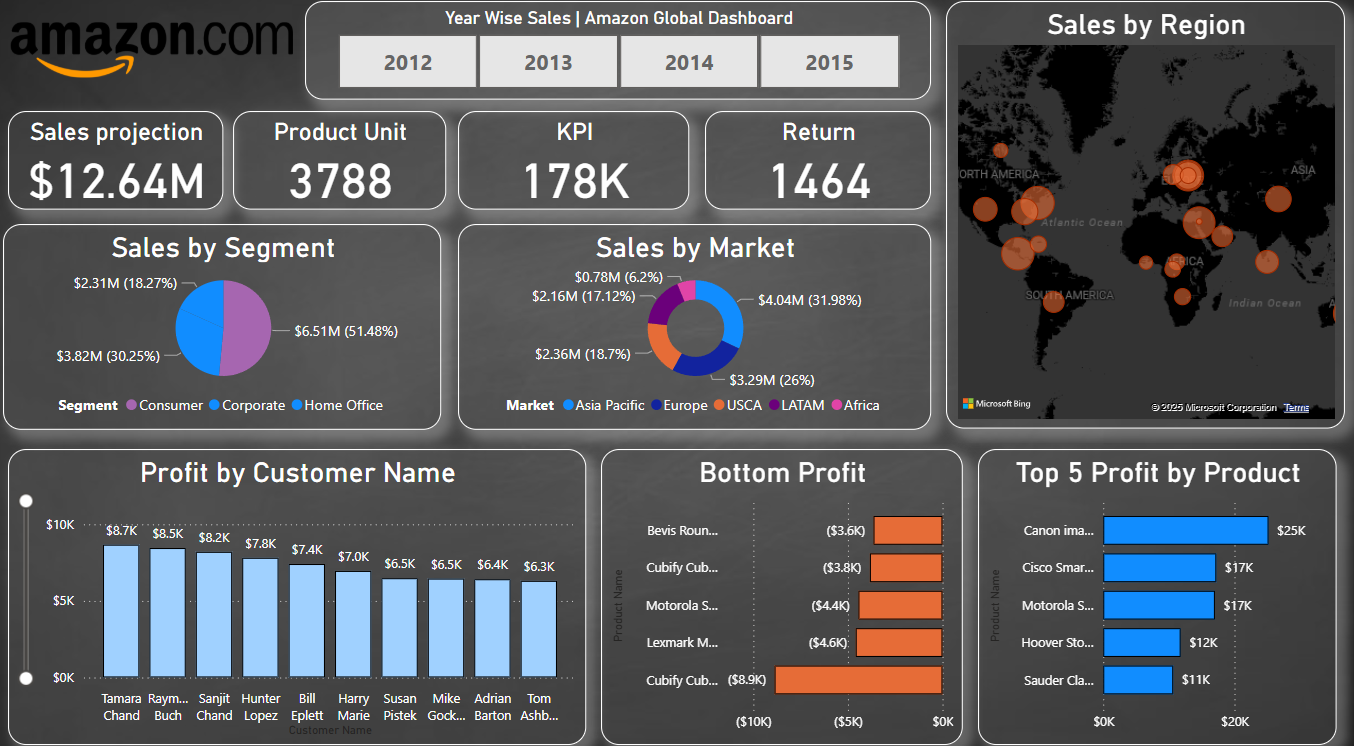

What the dashboard file says about the page in this screenshot:
{"tool":"powerbi","page":{"name":"Report 1","canvas":[1280,720],"ordinal":0},"visuals":[{"type":"card","title":"Product Unit","fields":{"Values":["Orders.Product Name"]},"box":[221.8,108.9,200.7,92.8],"z":1000},{"type":"slicer","title":"Year Wise Sales | Amazon Global Dashboard","fields":{"Values":["Orders.Year"]},"box":[289.4,6.1,589.9,92.8],"z":1500},{"type":"image","box":[0,21.2,289.4,61.5],"z":2000},{"type":"card","title":"Sales projection","fields":{"Values":["Orders.Sales"]},"box":[9.1,108.9,202.7,92.8],"z":3000},{"type":"card","title":"KPI","fields":{"Values":["Orders.Quantity"]},"box":[433.6,108.9,217.8,92.8],"z":4000},{"type":"card","title":"Return ","fields":{"Values":["Orders.Ship Date"]},"box":[666.6,108.9,212.8,92.8],"z":5000},{"type":"pieChart","title":"Sales by Segment","fields":{"Category":["Orders.Segment"],"Y":["Orders.Sales"]},"box":[5,215.8,413.4,193.6],"z":6000},{"type":"donutChart","title":"Sales by Market","fields":{"Category":["Orders.Market"],"Y":["Orders.Sales"]},"box":[433.6,215.8,445.7,193.6],"z":7000},{"type":"columnChart","title":"Profit by Customer Name","fields":{"Category":["Orders.Customer Name"],"Y":["Orders.Profit"]},"box":[9.1,427.6,544.5,279.3],"z":8000},{"type":"clusteredBarChart","title":"Bottom  Profit","fields":{"Y":["Orders.Profit"],"Category":["Orders.Product Name"]},"box":[568.7,427.6,340.8,279.3],"z":9000},{"type":"clusteredBarChart","title":"Top 5 Profit by Product","fields":{"Y":["Orders.Profit"],"Category":["Orders.Product Name"]},"box":[923.7,427.6,337.8,279.3],"z":10000},{"type":"map","title":"Sales by Region","fields":{"Category":["Orders.Region"],"Size":["Orders.Sales"]},"box":[893.4,6.1,376.1,403.4],"z":11000}]}

Visuals, with their boxes in screenshot pixels (x1, y1, x2, y2), scaled from the page's 1280x720 canvas onto the 1354x746 screenshot:
"Product Unit" card: x1=235, y1=113, x2=447, y2=209
"Year Wise Sales | Amazon Global Dashboard" slicer: x1=306, y1=6, x2=930, y2=102
image: x1=0, y1=22, x2=306, y2=86
"Sales projection" card: x1=10, y1=113, x2=224, y2=209
"KPI" card: x1=459, y1=113, x2=689, y2=209
"Return " card: x1=705, y1=113, x2=930, y2=209
"Sales by Segment" pieChart: x1=5, y1=224, x2=443, y2=424
"Sales by Market" donutChart: x1=459, y1=224, x2=930, y2=424
"Profit by Customer Name" columnChart: x1=10, y1=443, x2=586, y2=732
"Bottom  Profit" clusteredBarChart: x1=602, y1=443, x2=962, y2=732
"Top 5 Profit by Product" clusteredBarChart: x1=977, y1=443, x2=1334, y2=732
"Sales by Region" map: x1=945, y1=6, x2=1343, y2=424
